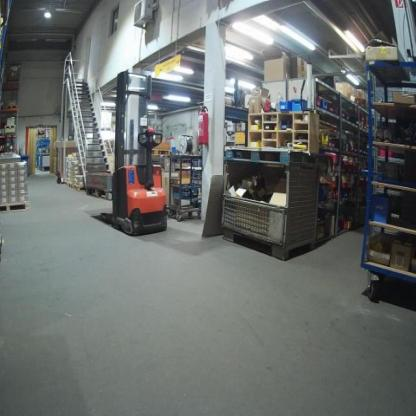pallet: (1, 198, 31, 215), (85, 186, 113, 199), (74, 184, 87, 192), (5, 103, 19, 110), (4, 123, 16, 131), (69, 182, 76, 188)
pallet_truck: (91, 67, 167, 237)
stillage: (219, 157, 321, 262)
